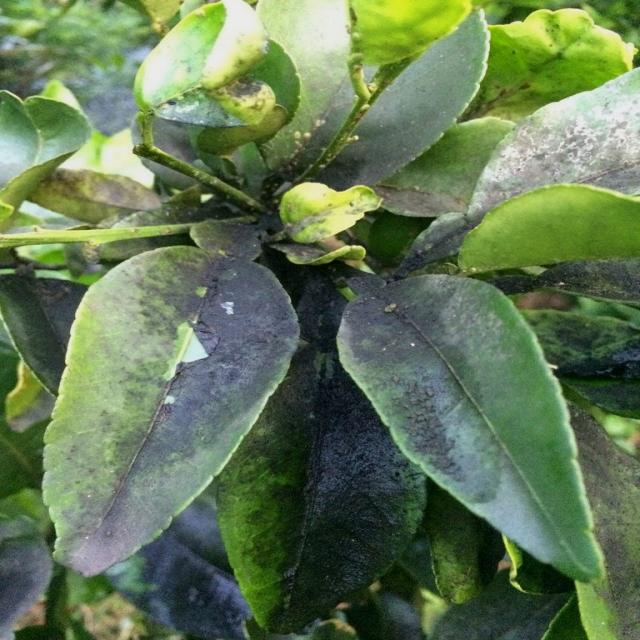Sooty Mold: (98, 68, 609, 547)
